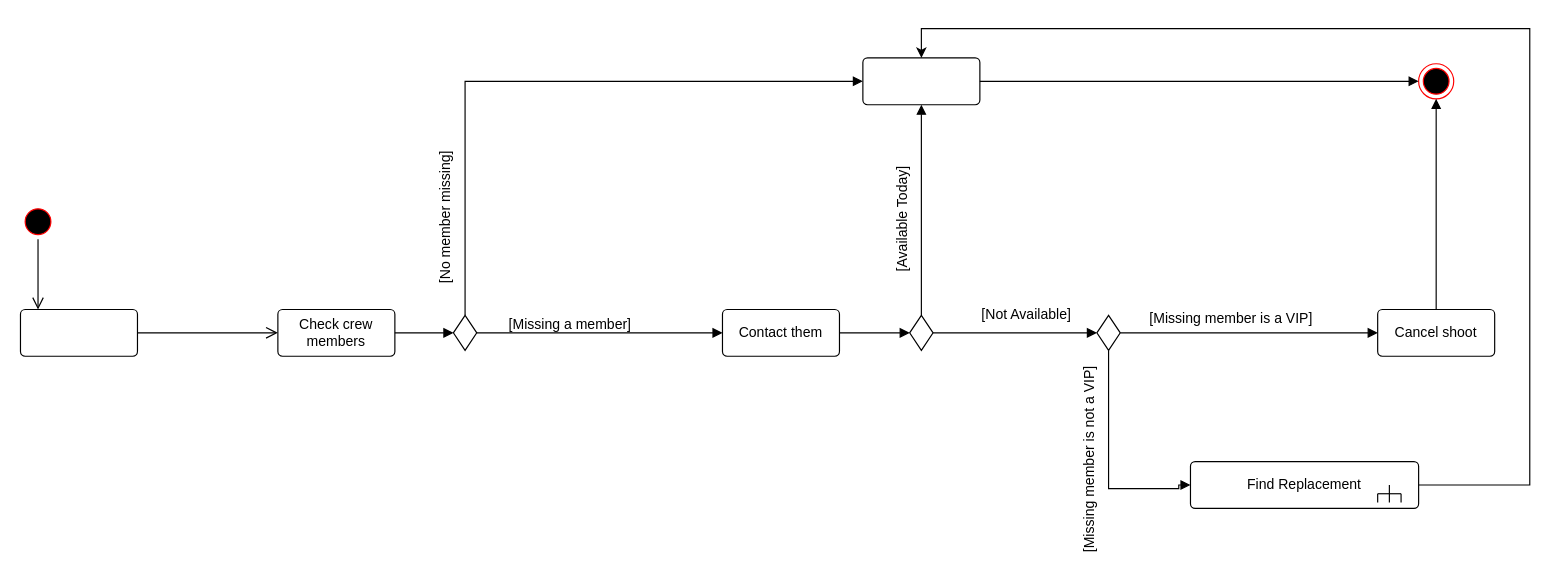
Image size: 1560x576. Some labels were removed from this diagram. The shapes that lost their labels are listed below. From the top down, each one's centre as x and y in pixels, then its label:
At (x=921, y=81): "Start shooting".
At (x=78, y=332): "Not Filming".
